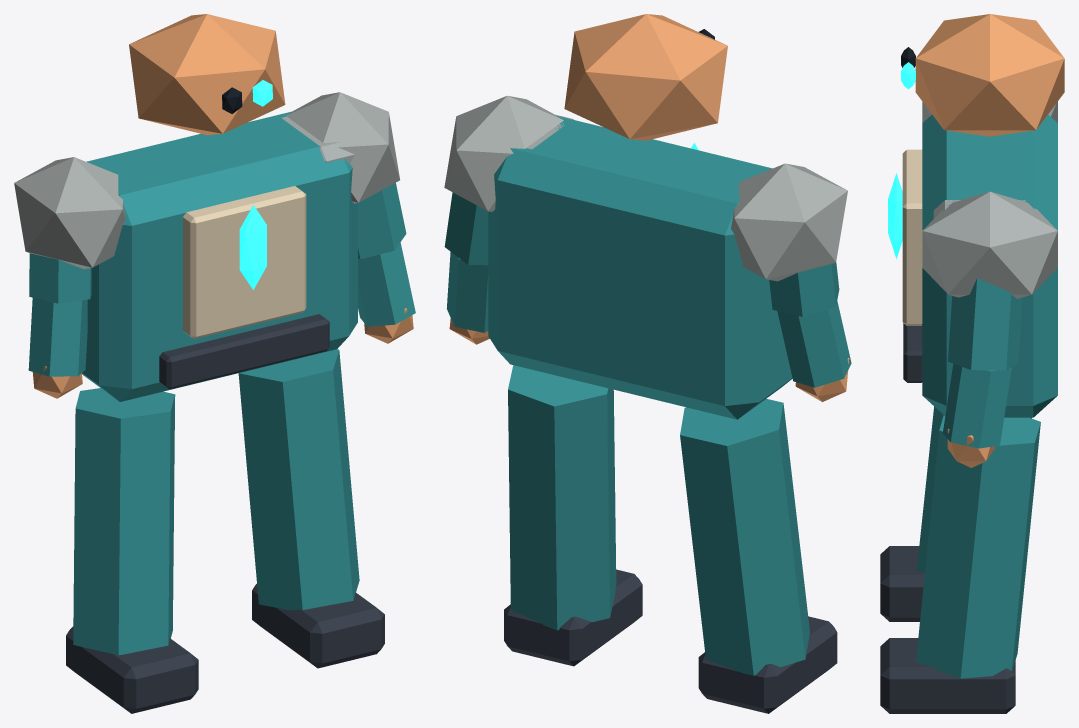
The model's file is npcs_007_seed78877.glb.
3 renders of one model, left to right at view 1: azimuth 30°, elevation 25°; view 2: azimuth 150°, elevation 25°; view 3: azimuth 270°, elevation 25°, orthographic. The views are drawn at different scales.
Parts seen in each view (by area): view 1: npcs_007_seed78877; view 2: npcs_007_seed78877; view 3: npcs_007_seed78877.
Part boxes in pixels (x1,y1,x2,y2): npcs_007_seed78877: (14, 14, 415, 713); npcs_007_seed78877: (444, 14, 851, 713); npcs_007_seed78877: (880, 14, 1064, 713).
Bounding box in the file's own units: 0.9494 × 1.51 × 0.3942.
